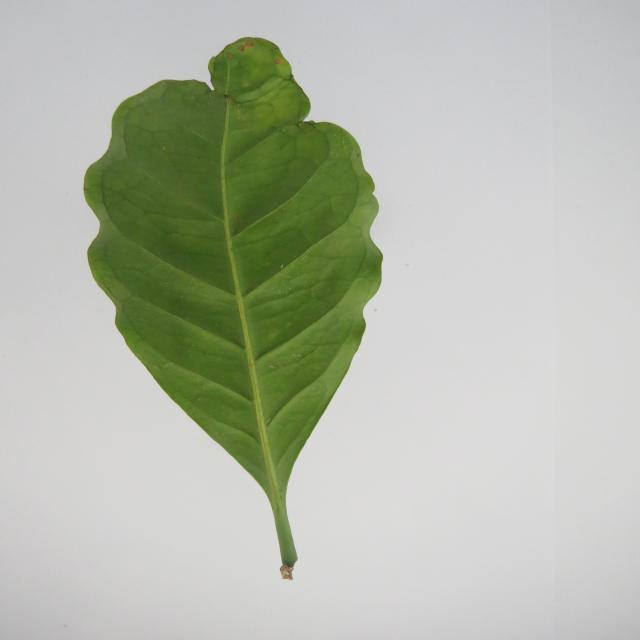DeficienciaNutricional-Calcio: (85, 38, 382, 579)
